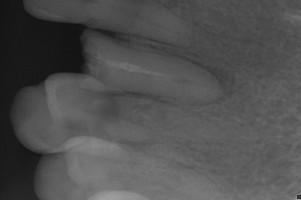Furcation Involvement: (179, 57, 238, 103)
